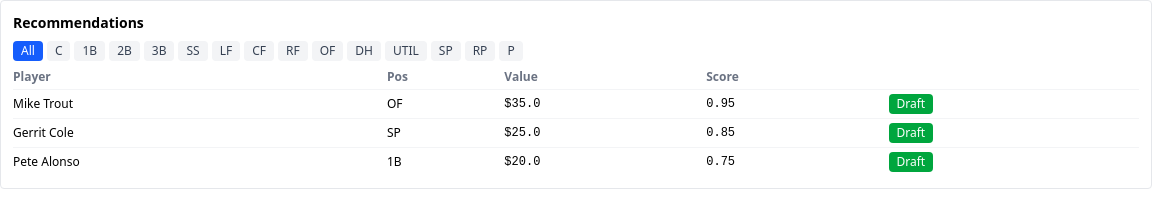
Test: RecommendationPanel › filters by position
Step 1. Click the button "SP" → (446, 51), box left=431, top=41, right=461, bottom=61
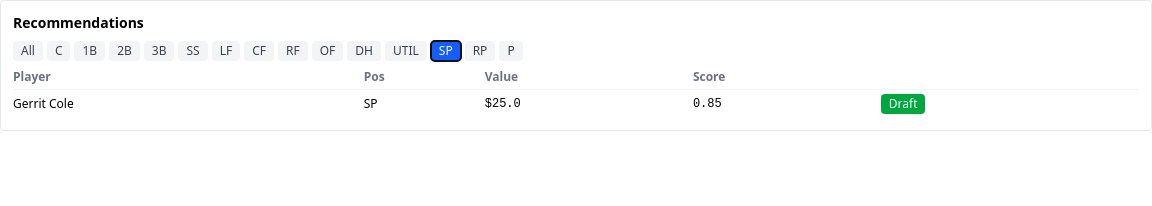
Expected: the text "Gerrit Cole" is shown, left=13, top=90, right=364, bottom=118
Expected: the text "Mike Trout" is gone
